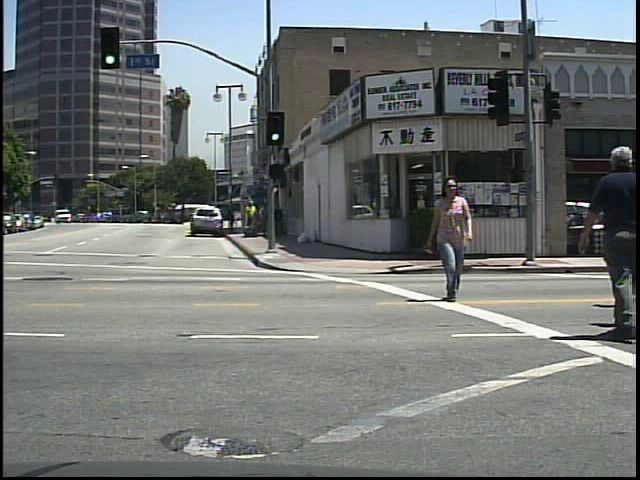person: (577, 134, 637, 349), (424, 174, 477, 305)
